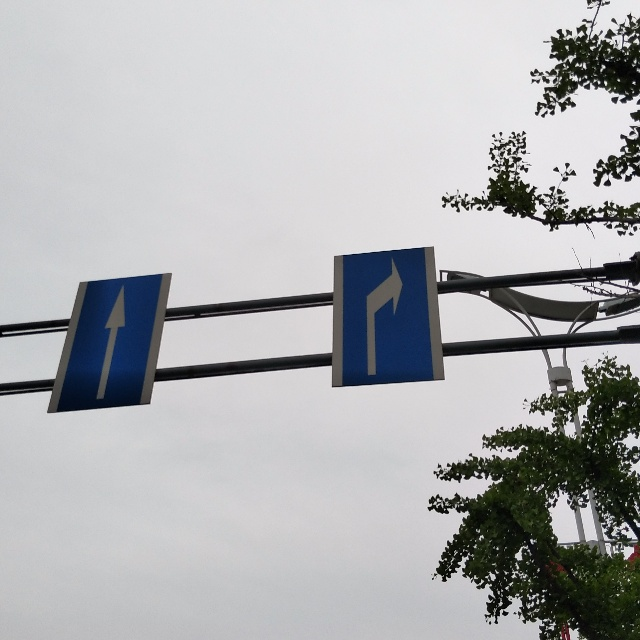right: (348, 252, 425, 375)
straight: (94, 279, 130, 406)
